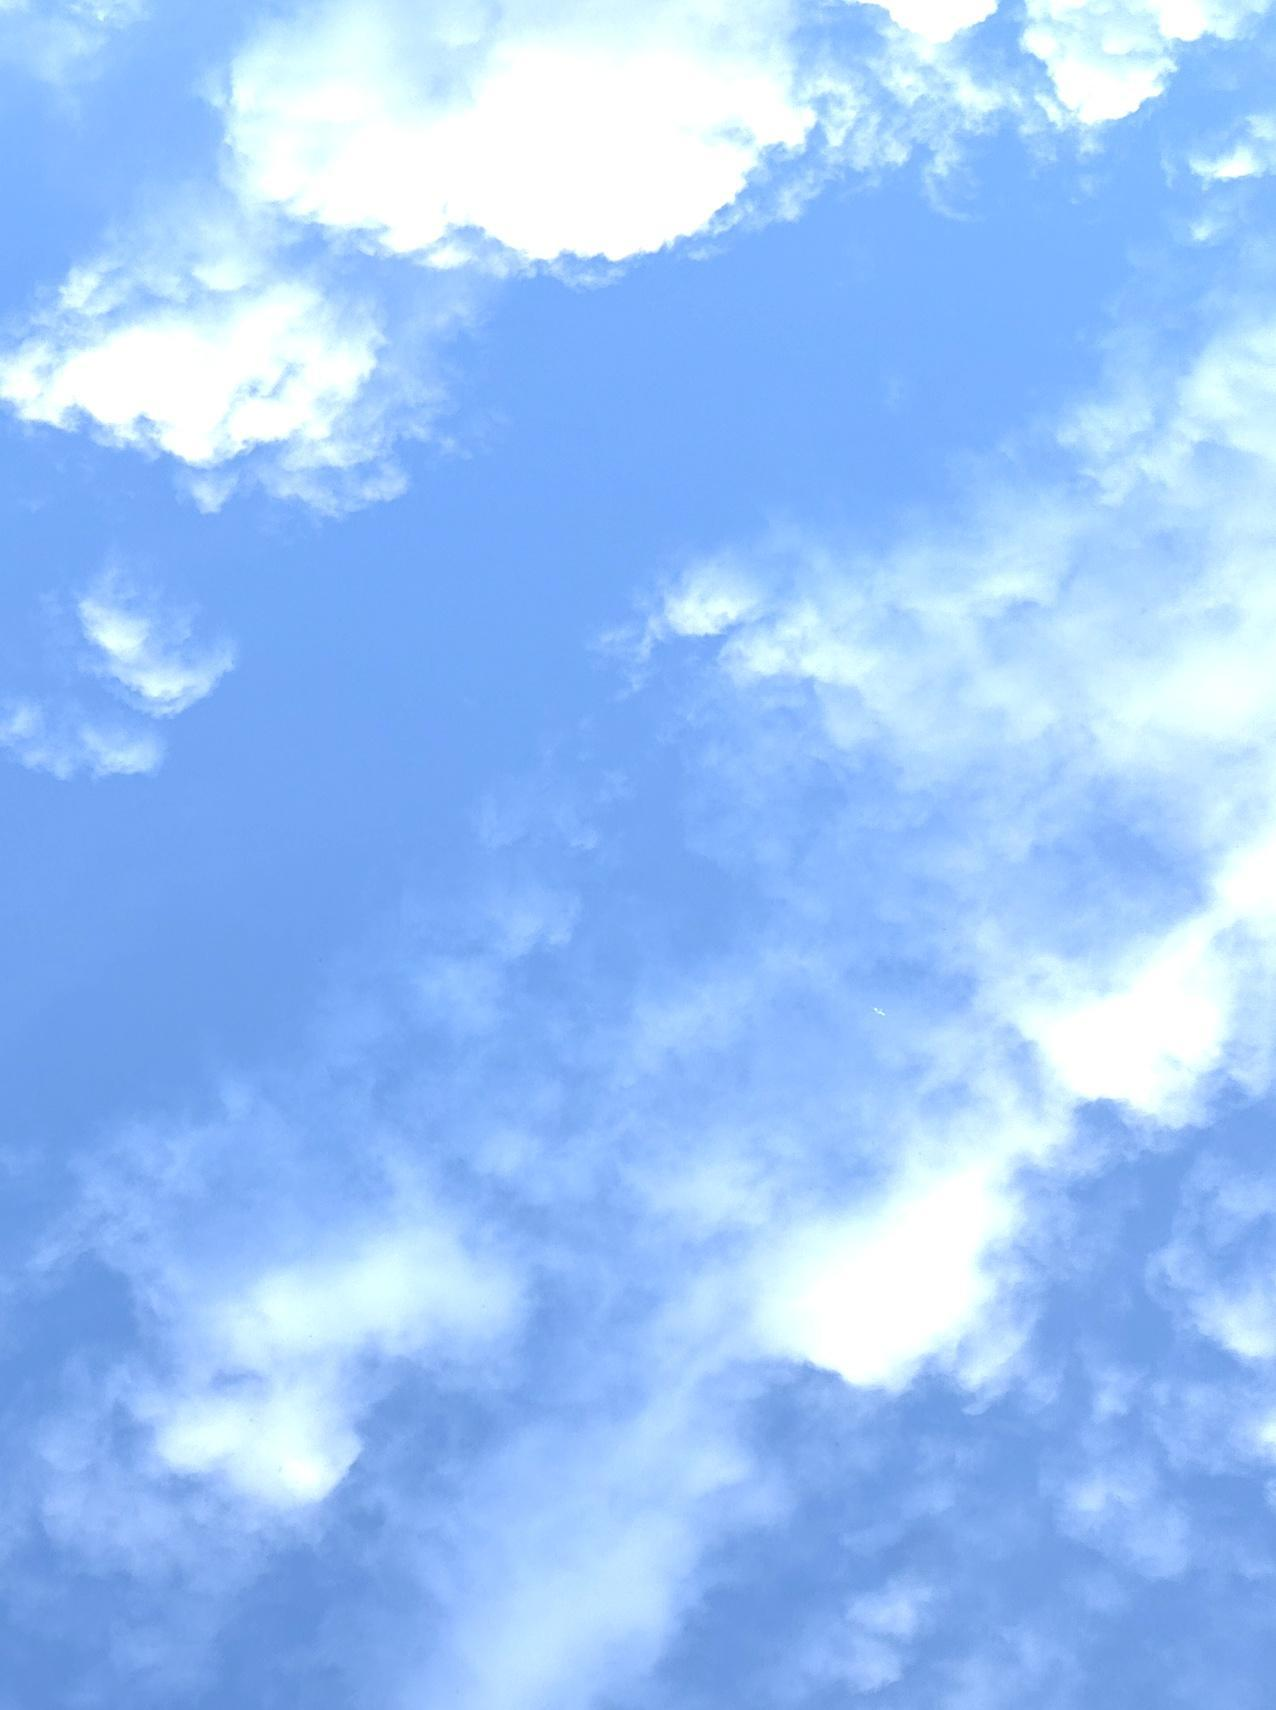Plane: (865, 994, 901, 1033)
